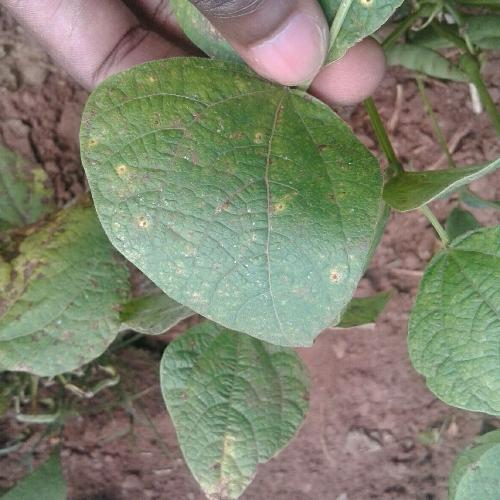hawar: (306, 137, 338, 160)
mozaik: (141, 105, 339, 267)
